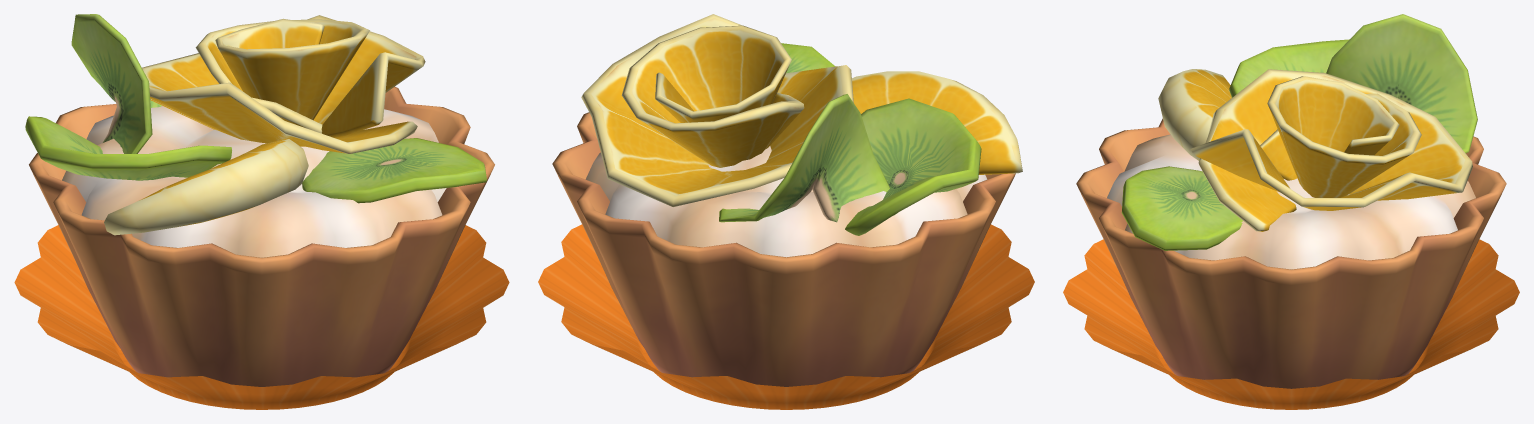
File: cupcake_orange_kiwi_1.fbx
3 views of the same model, side by side, from view 1: azimuth 30°, elevation 25°; view 2: azimuth 150°, elevation 25°; view 3: azimuth 270°, elevation 25° (orthographic). The views are drawn at different scales.
Visible parts, largest first — view 1: cake_basket_orange_kiwi_2; view 2: cake_basket_orange_kiwi_2; view 3: cake_basket_orange_kiwi_2.
Part boxes in pixels (left/top/right/bottom): cake_basket_orange_kiwi_2: left=14, top=14, right=509, bottom=409; cake_basket_orange_kiwi_2: left=538, top=14, right=1034, bottom=409; cake_basket_orange_kiwi_2: left=1063, top=14, right=1519, bottom=409.
Bounding box in the file's own units: 12.04 × 8.51 × 12.04.
